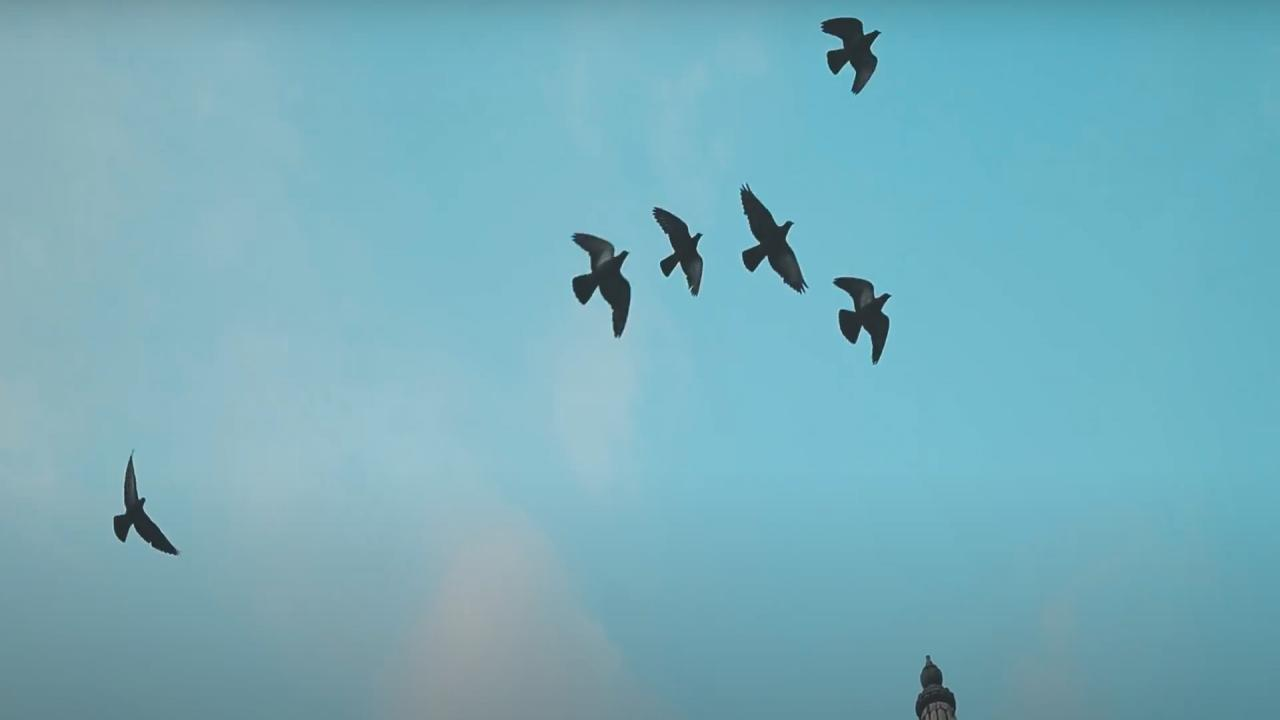Bird: (89, 447, 197, 575), (728, 170, 819, 306), (561, 215, 646, 349), (830, 260, 901, 378), (816, 5, 892, 107), (646, 193, 714, 302)
